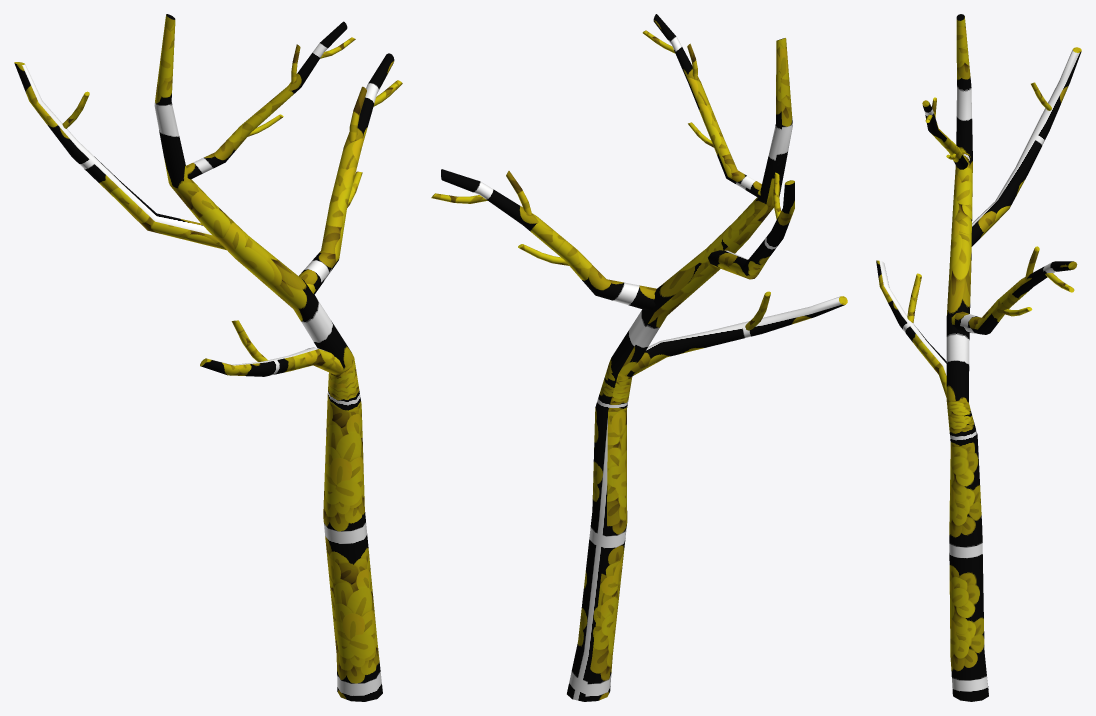
The model's file is dead_birch_6.glb.
The picture shows the model from 3 angles, left to right: view 1: azimuth 30°, elevation 25°; view 2: azimuth 150°, elevation 25°; view 3: azimuth 270°, elevation 25°; orthographic projection. The views are drawn at different scales.
Parts seen in each view (by area): view 1: DeadBirch_6_Cylinder.055; view 2: DeadBirch_6_Cylinder.055; view 3: DeadBirch_6_Cylinder.055.
Boxes of the visible parts, bbox=[...] form: DeadBirch_6_Cylinder.055: bbox=[14, 14, 402, 701]; DeadBirch_6_Cylinder.055: bbox=[431, 14, 847, 701]; DeadBirch_6_Cylinder.055: bbox=[876, 14, 1081, 701].
Bounding box in the file's own units: 5.13 × 9.34 × 2.9.
Materials: 1 (1 with a texture image).
